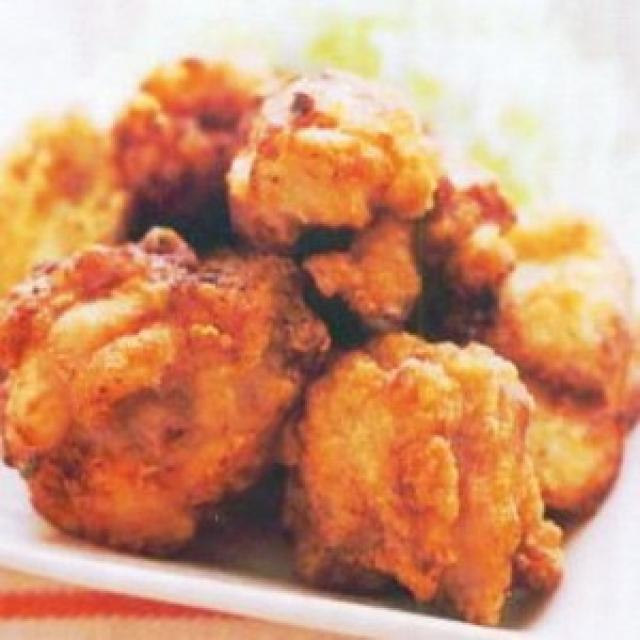鸡肉料理 含炸鸡: (6, 24, 621, 618)
